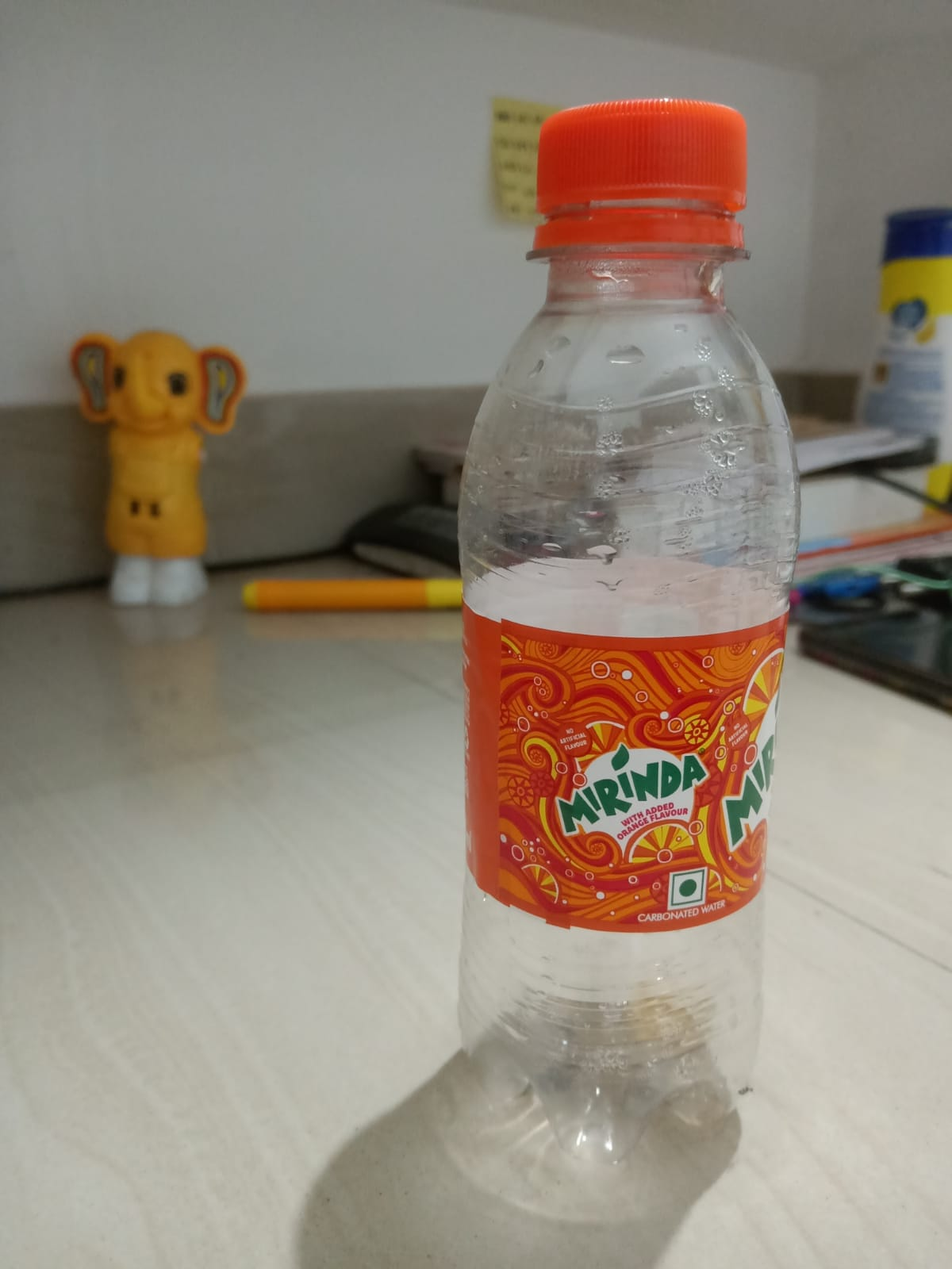plastic: (397, 90, 795, 1181)
